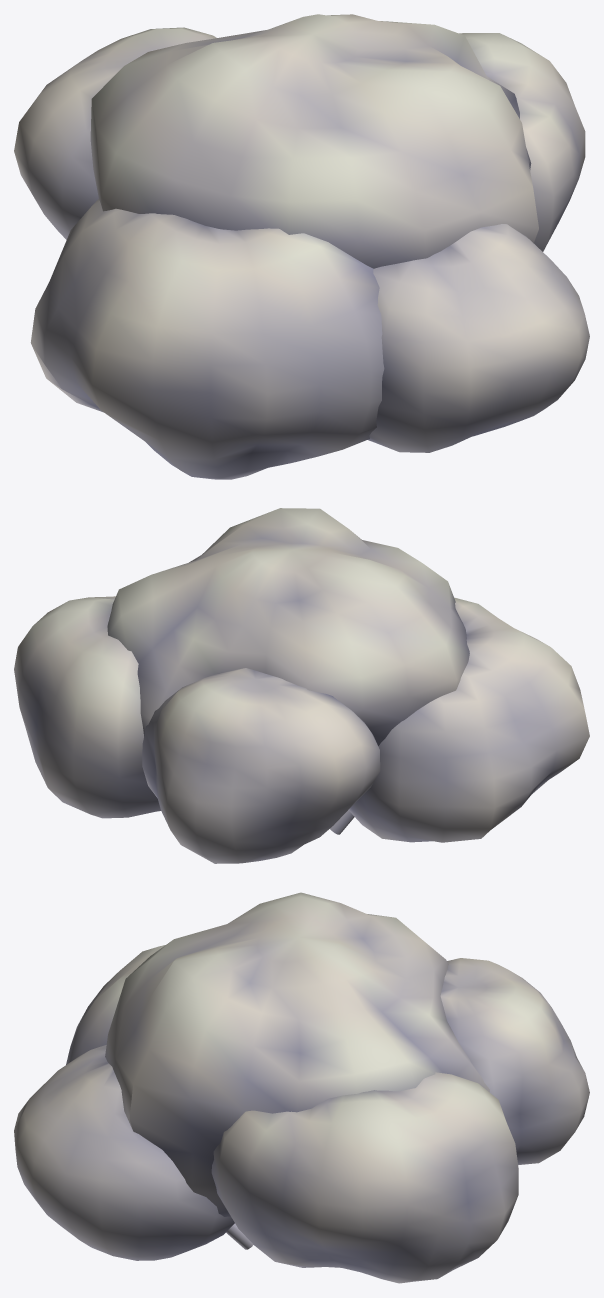
File: scrub.glb
3 views of the same model, one above another, from view 1: azimuth 30°, elevation 25°; view 2: azimuth 150°, elevation 25°; view 3: azimuth 270°, elevation 25° (orthographic). The views are drawn at different scales.
Visible parts, largest first — view 1: body; view 2: body; view 3: body.
Boxes of the visible parts, x1,y1,x2,y2 form: body: [14, 14, 589, 479]; body: [14, 508, 589, 863]; body: [14, 892, 589, 1283].
Bounding box in the file's own units: 1.83 × 1.07 × 1.8.
